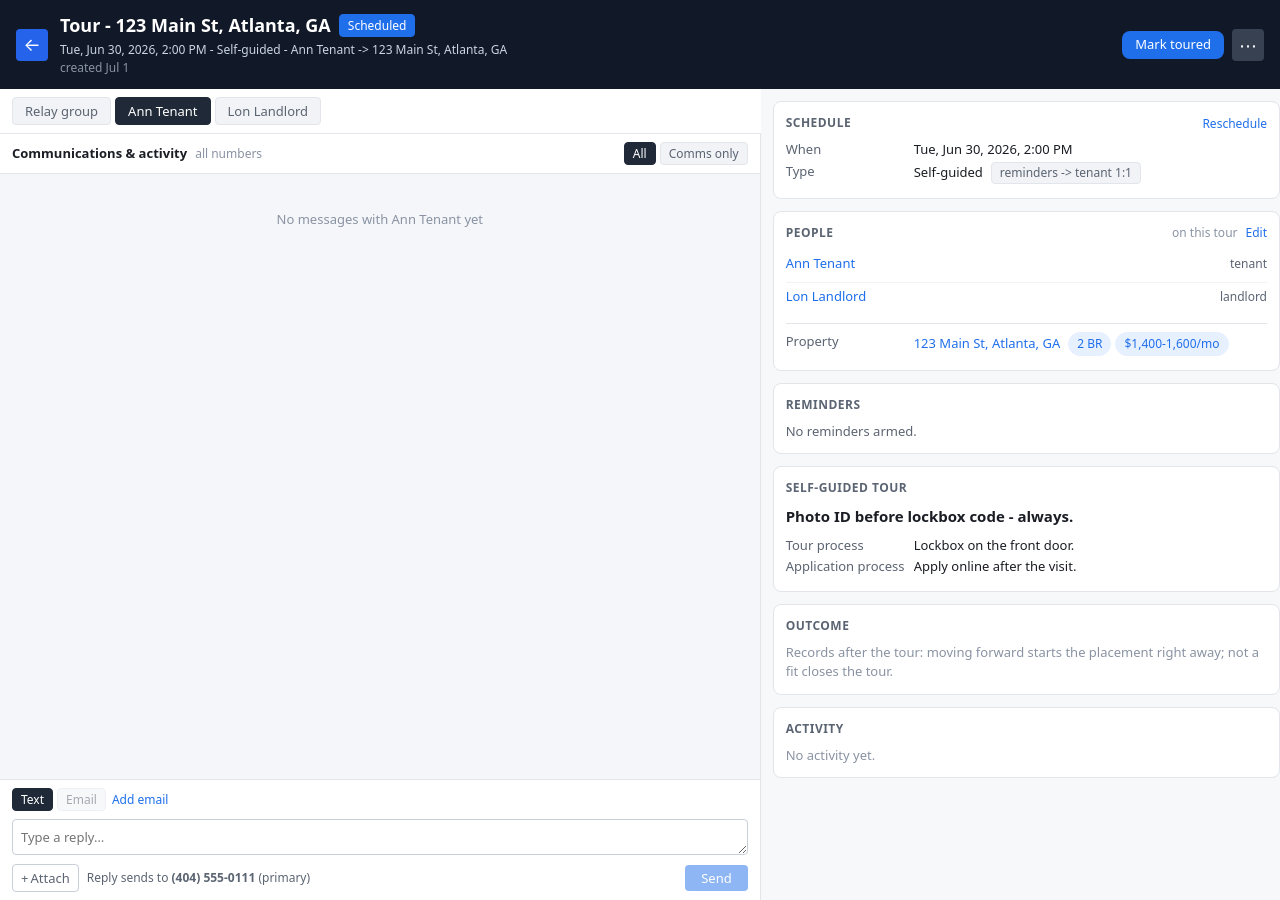
TourDetail - Send no-show check-in (manual) › a 404 keeps the LOAD-shaped fallback, never the send map and never the raw code
Check: the link "←" is shown, box [16,28,48,60]
Click the button named "More actions" at [1248, 44], box [1232,28,1264,60]
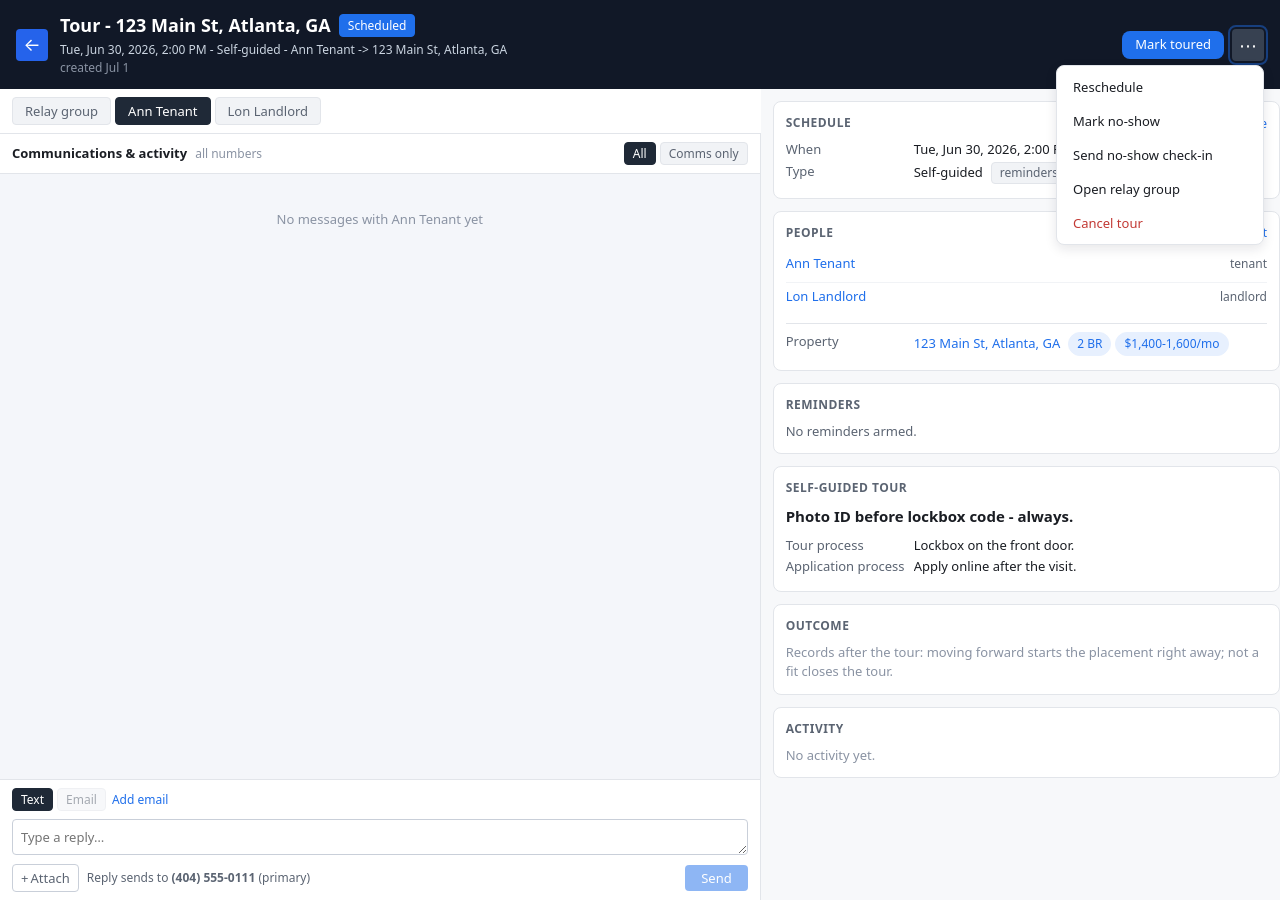
Click the menu item "Send no-show check-in" at [1160, 154], box [1061,138,1259,172]
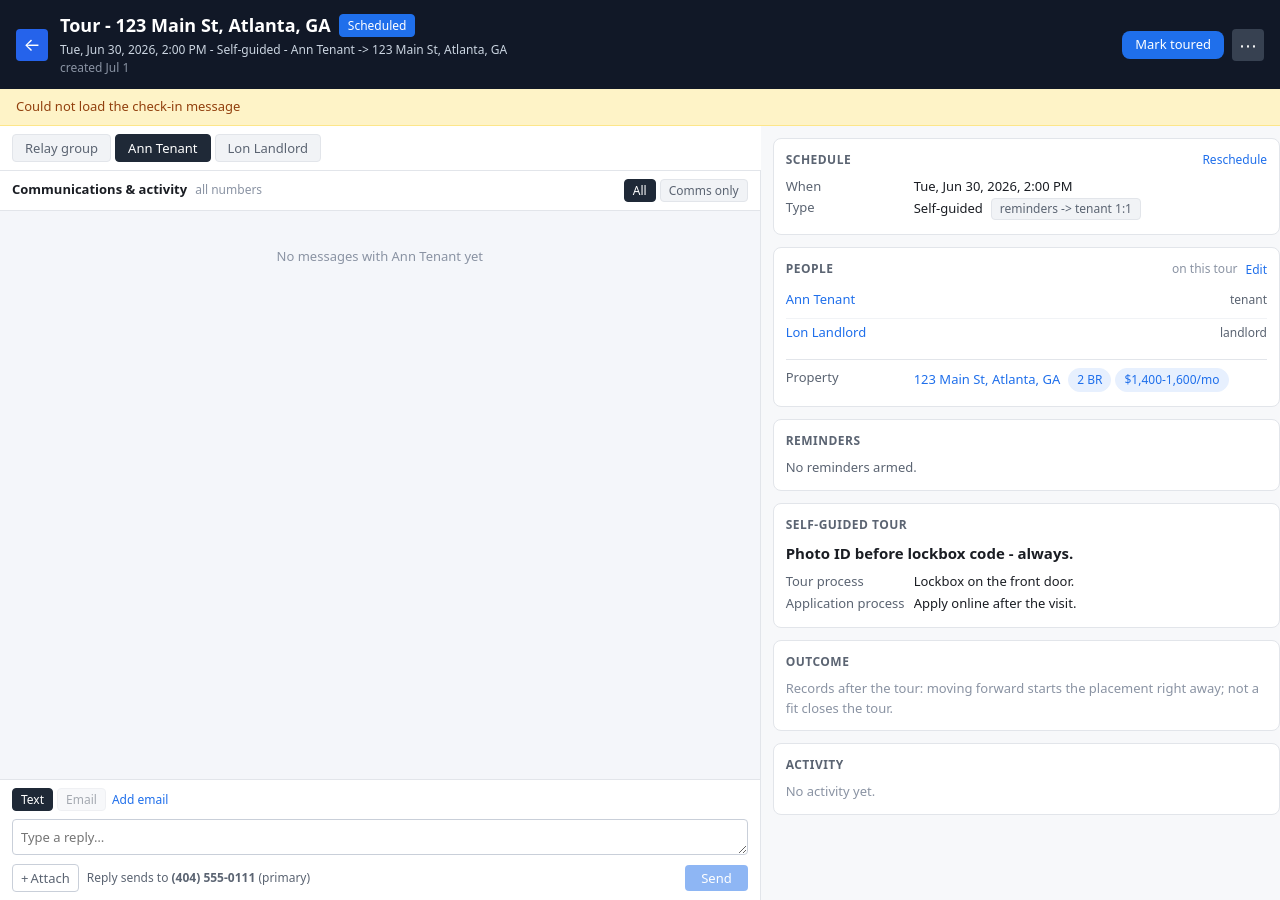
Check: the message reads "Could not load the check-in message", box [16,97,240,115]
